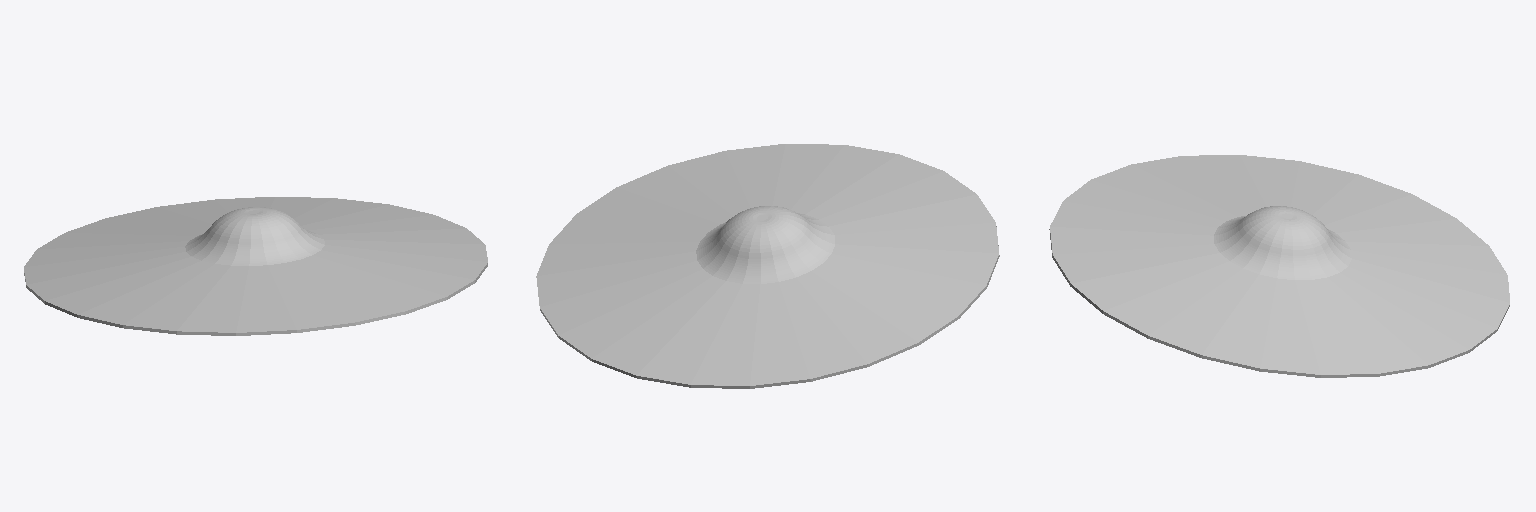
Rendered from Crash2.obj.
3 renders of one model, left to right at view 1: azimuth 30°, elevation 25°; view 2: azimuth 150°, elevation 25°; view 3: azimuth 270°, elevation 25°, orthographic.
Visible parts, largest first — view 1: ComponentFBXASC03515_001; view 2: ComponentFBXASC03515_001; view 3: ComponentFBXASC03515_001.
Boxes of the visible parts, x1,y1,x2,y2 form: ComponentFBXASC03515_001: [24, 197, 487, 335]; ComponentFBXASC03515_001: [536, 144, 999, 388]; ComponentFBXASC03515_001: [1049, 155, 1509, 377].
Size of the model in its own units: 354 by 71.69 by 351.